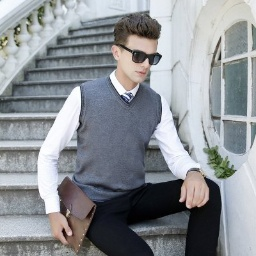face: (109, 11, 163, 85)
